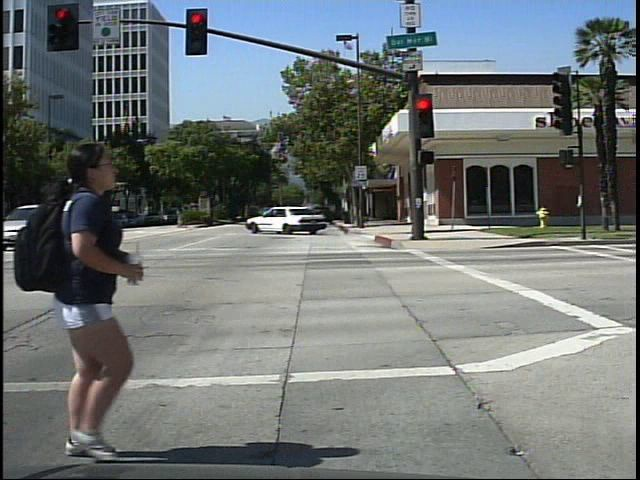person: (23, 132, 151, 466)
